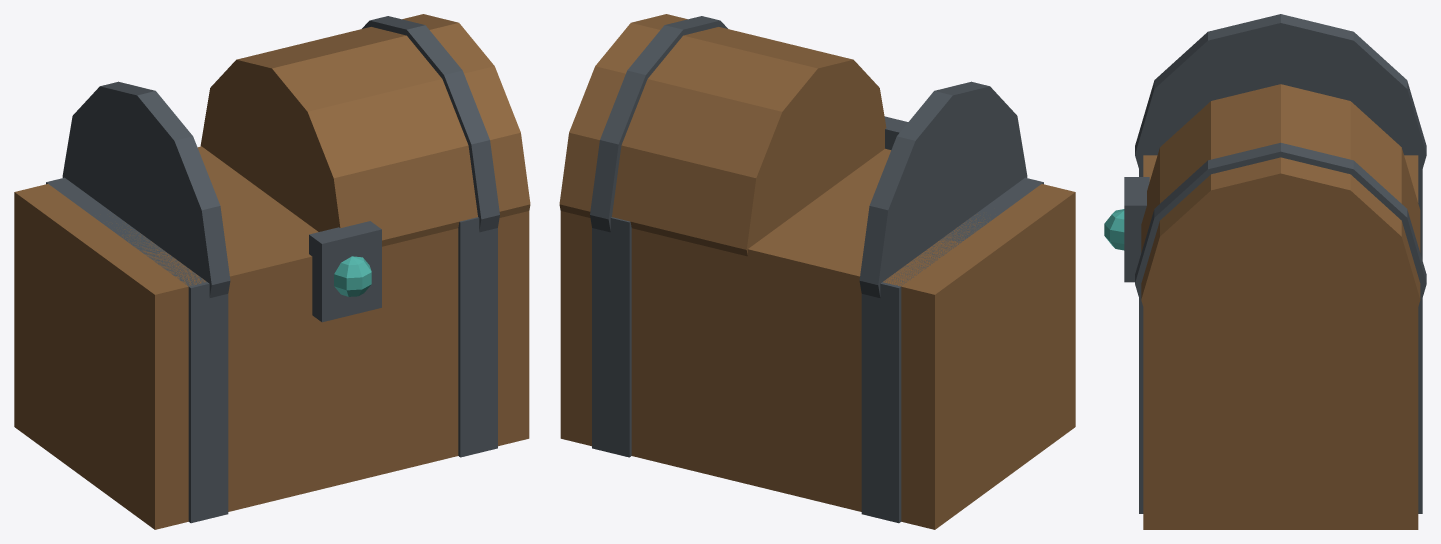
Rendered from chest-tide.glb.
The picture shows the model from 3 angles, left to right: view 1: azimuth 30°, elevation 25°; view 2: azimuth 150°, elevation 25°; view 3: azimuth 270°, elevation 25°; orthographic projection. The views are drawn at different scales.
Visible parts, largest first — view 1: chest-tide; view 2: chest-tide; view 3: chest-tide.
Boxes of the visible parts, x1,y1,x2,y2 form: chest-tide: (14, 14, 530, 529); chest-tide: (559, 14, 1075, 529); chest-tide: (1104, 14, 1426, 529).
Size of the model in its own units: 1 by 0.945 by 0.7626.
